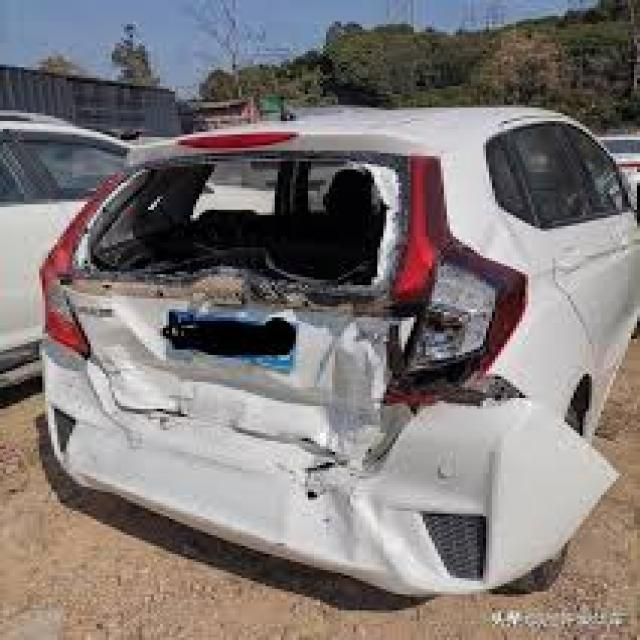damaged-trunk: (59, 148, 404, 454)
